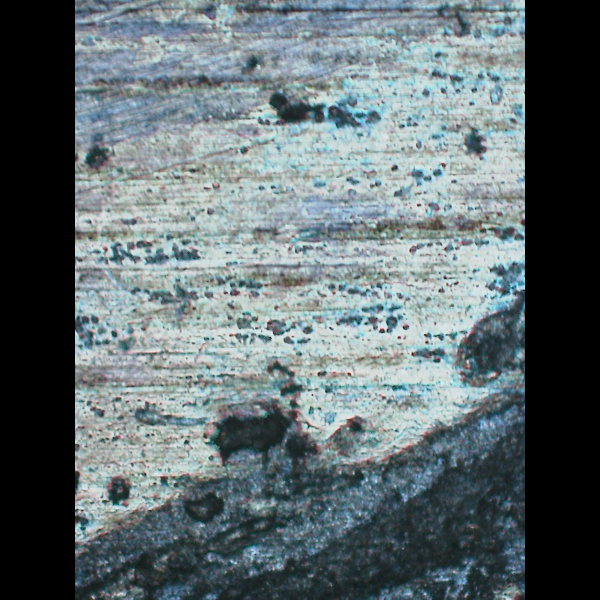d: (75, 281, 524, 599)
